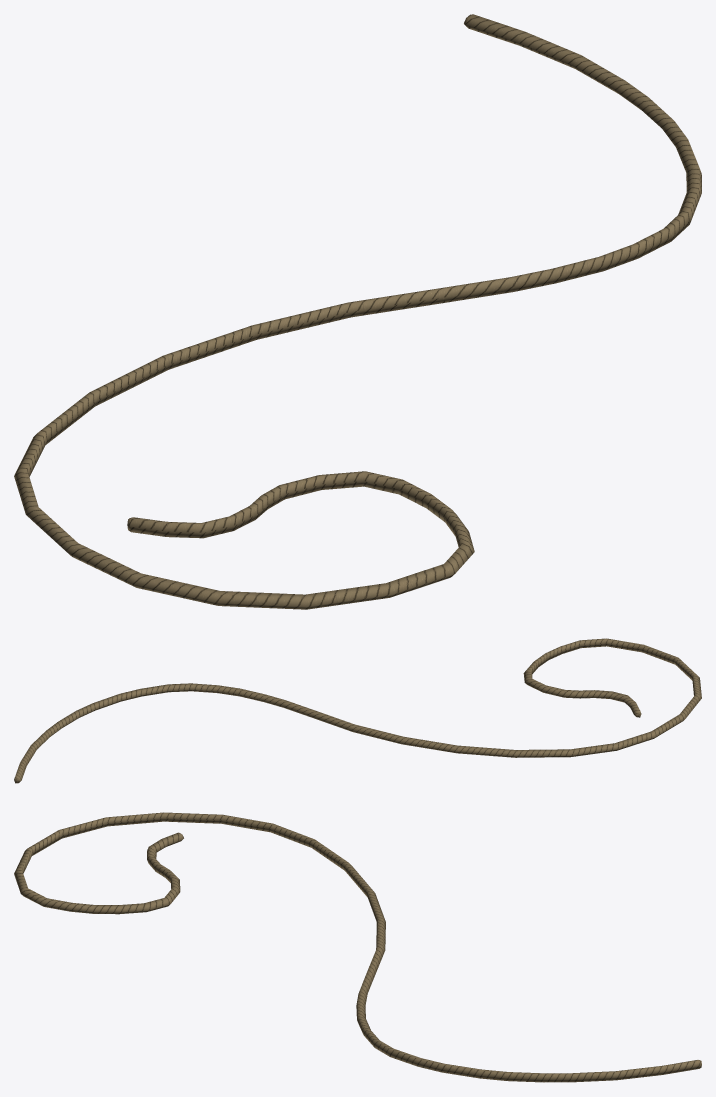
File: SM_rope_ground_03.fbx
3 views of the same model, one above another, from view 1: azimuth 30°, elevation 25°; view 2: azimuth 150°, elevation 25°; view 3: azimuth 270°, elevation 25° (orthographic). The views are drawn at different scales.
Parts seen in each view (by area): view 1: Group6; view 2: Group6; view 3: Group6.
Part boxes in pixels (left/top/right/bottom): Group6: left=14, top=14, right=701, bottom=609; Group6: left=14, top=638, right=701, bottom=783; Group6: left=14, top=812, right=701, bottom=1082.
Bounding box in the file's own units: 91.55 × 1.29 × 101.
